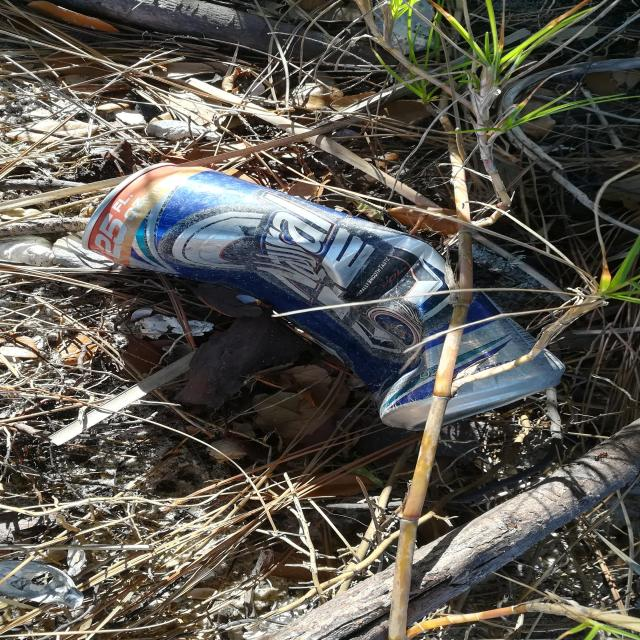litter: (83, 162, 566, 430)
